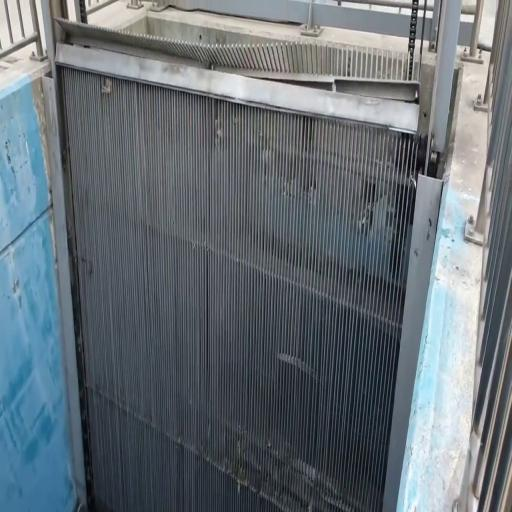rake_broken: (200, 32, 422, 94)
